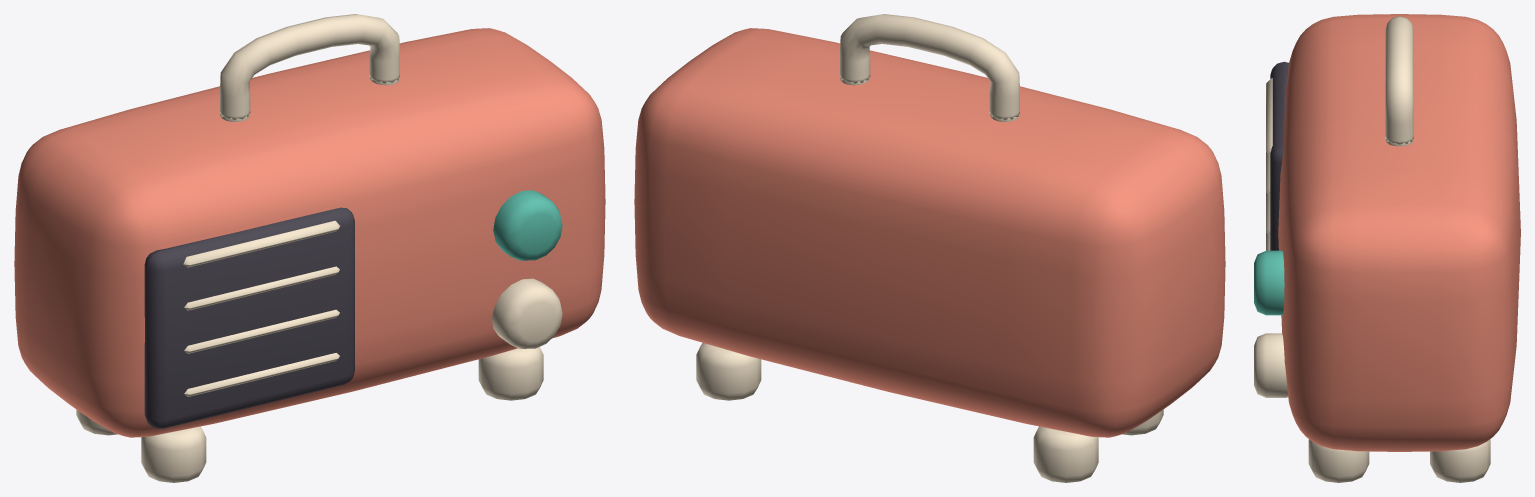
The model's file is radio_b.glb.
The picture shows the model from 3 angles, left to right: view 1: azimuth 30°, elevation 25°; view 2: azimuth 150°, elevation 25°; view 3: azimuth 270°, elevation 25°; orthographic projection. The views are drawn at different scales.
Parts seen in each view (by area): view 1: body; view 2: body; view 3: body.
Part boxes in pixels (x1,y1,x2,y2): body: (14, 14, 605, 482); body: (634, 14, 1225, 482); body: (1254, 14, 1520, 482).
Size of the model in its own units: 0.28 by 0.197 by 0.132.
